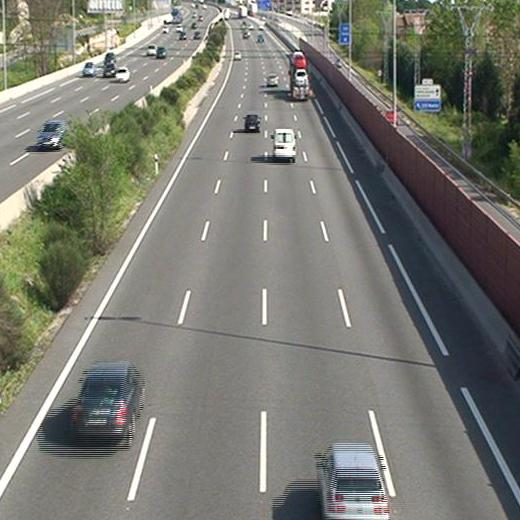car: (72, 363, 145, 441), (319, 444, 389, 520), (243, 114, 260, 131), (294, 70, 308, 87), (292, 54, 306, 69), (265, 74, 278, 87)
truck: (290, 53, 311, 100)
van: (272, 129, 297, 160)
